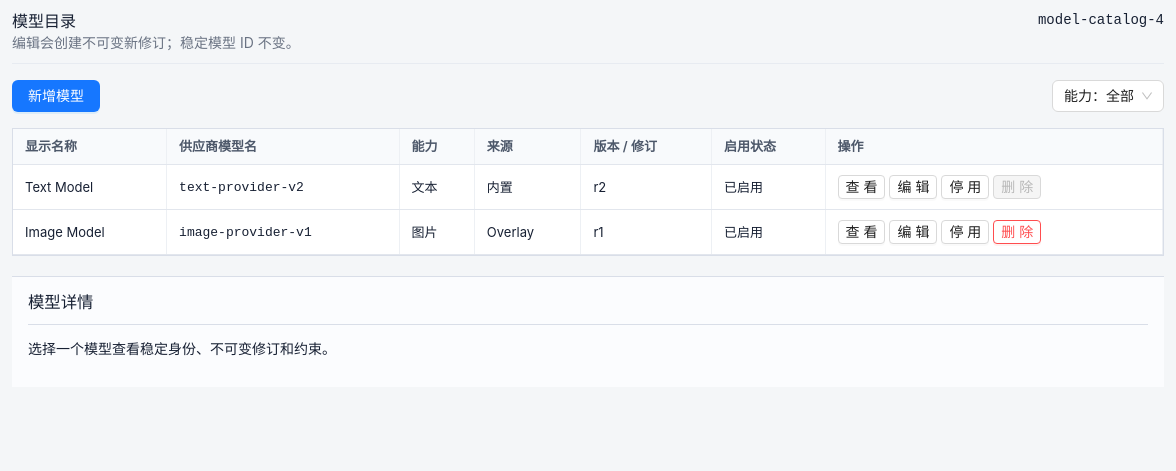
Test: supplier models panel › renders stale combined-ETag conflict without retrying
Expected: the cell "Text Model" is shown, x1=13 y1=165 x2=167 y2=210
Click the button named "停用 Text Model": (965, 187) x1=941 y1=175 x2=989 y2=199
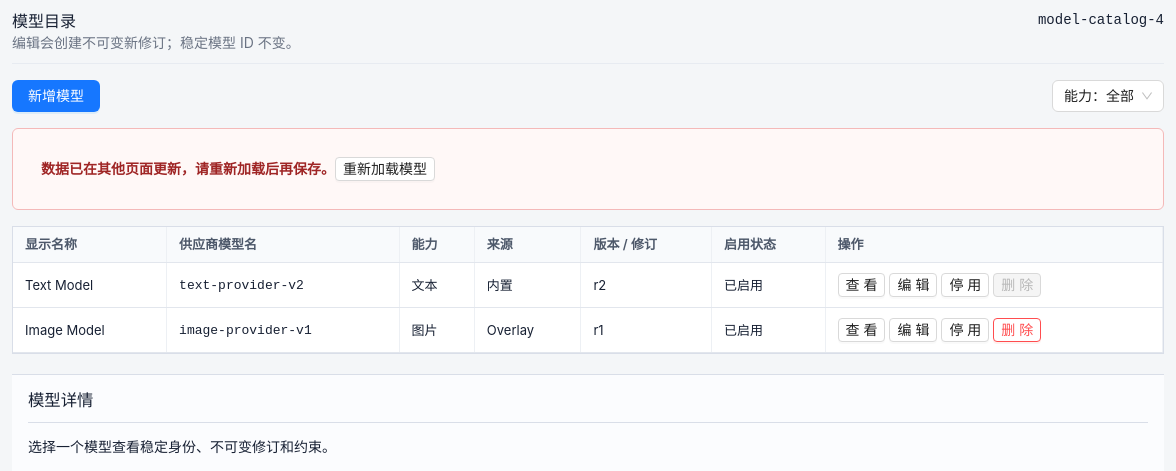
Expected: the text "数据已在其他页面更新，请重新加载后再保存。" is shown, x1=41 y1=160 x2=335 y2=177
Expected: the button "重新加载模型" is shown, x1=335 y1=158 x2=435 y2=182
